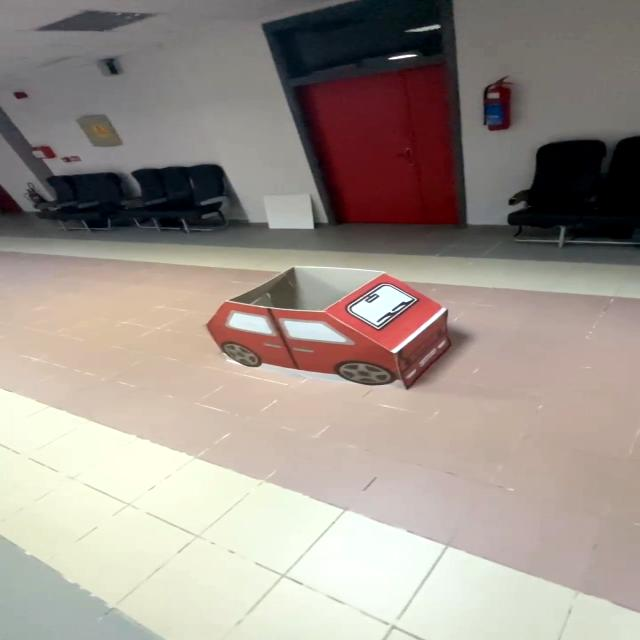red_car: (190, 257, 489, 410)
